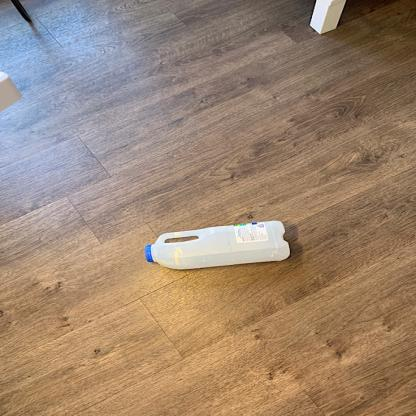trash: (142, 218, 296, 270)
